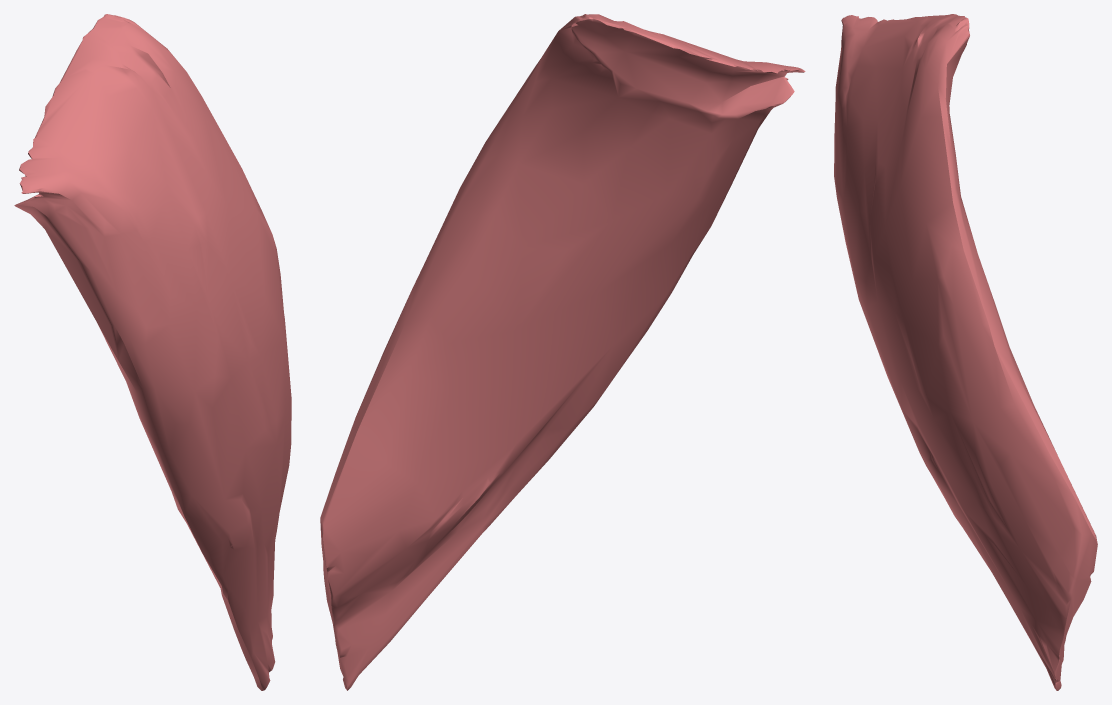
3 views of the same model, side by side, from view 1: azimuth 30°, elevation 25°; view 2: azimuth 150°, elevation 25°; view 3: azimuth 270°, elevation 25° (orthographic). The views are drawn at different scales.
Visible parts, largest first — view 1: FJ1427M; view 2: FJ1427M; view 3: FJ1427M.
Part boxes in pixels (bbox=[...]): FJ1427M: bbox=[14, 14, 291, 690]; FJ1427M: bbox=[320, 14, 805, 690]; FJ1427M: bbox=[834, 14, 1097, 690].
Bounding box in the file's own units: 0.0754 × 0.14 × 0.0565.
